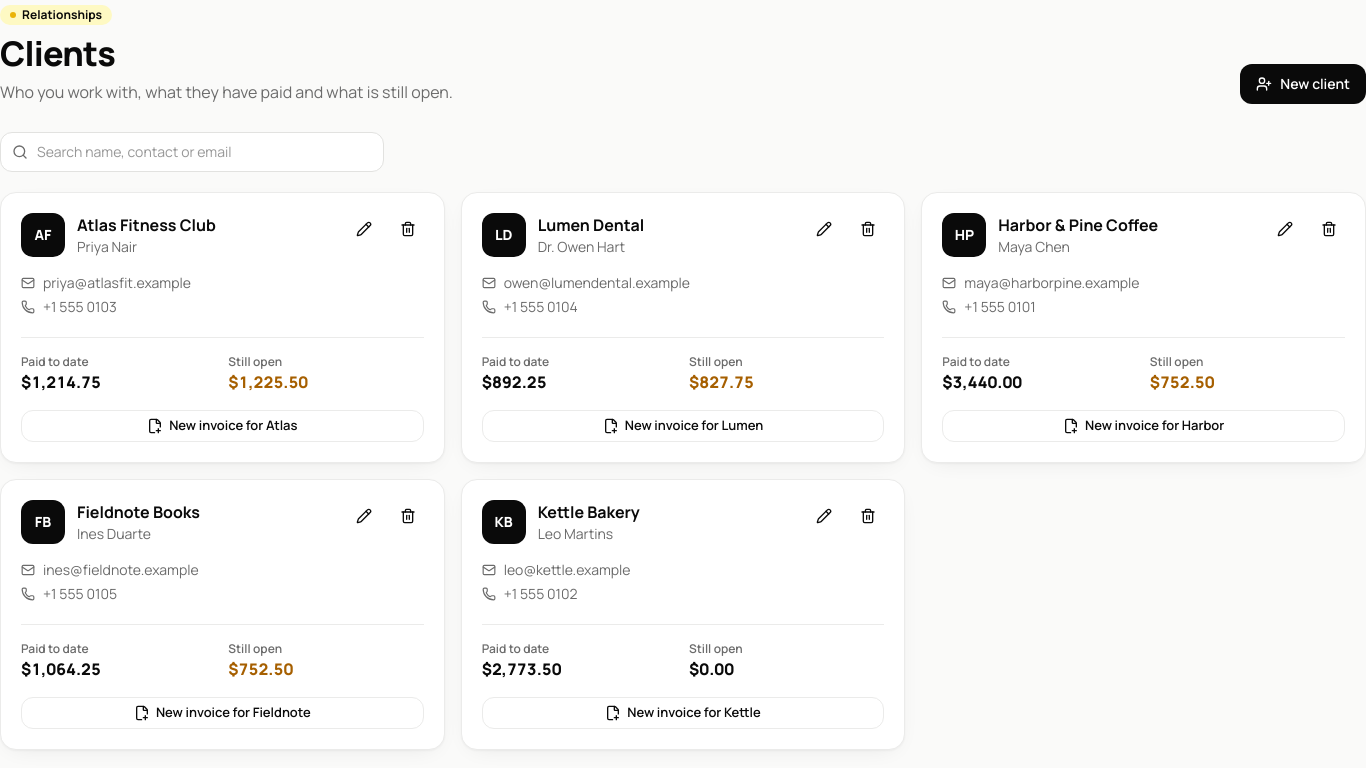
Test: Clients page › validates and adds a client
Step 1. Click the button "New client" → (1303, 84), box [1240, 64, 1365, 104]
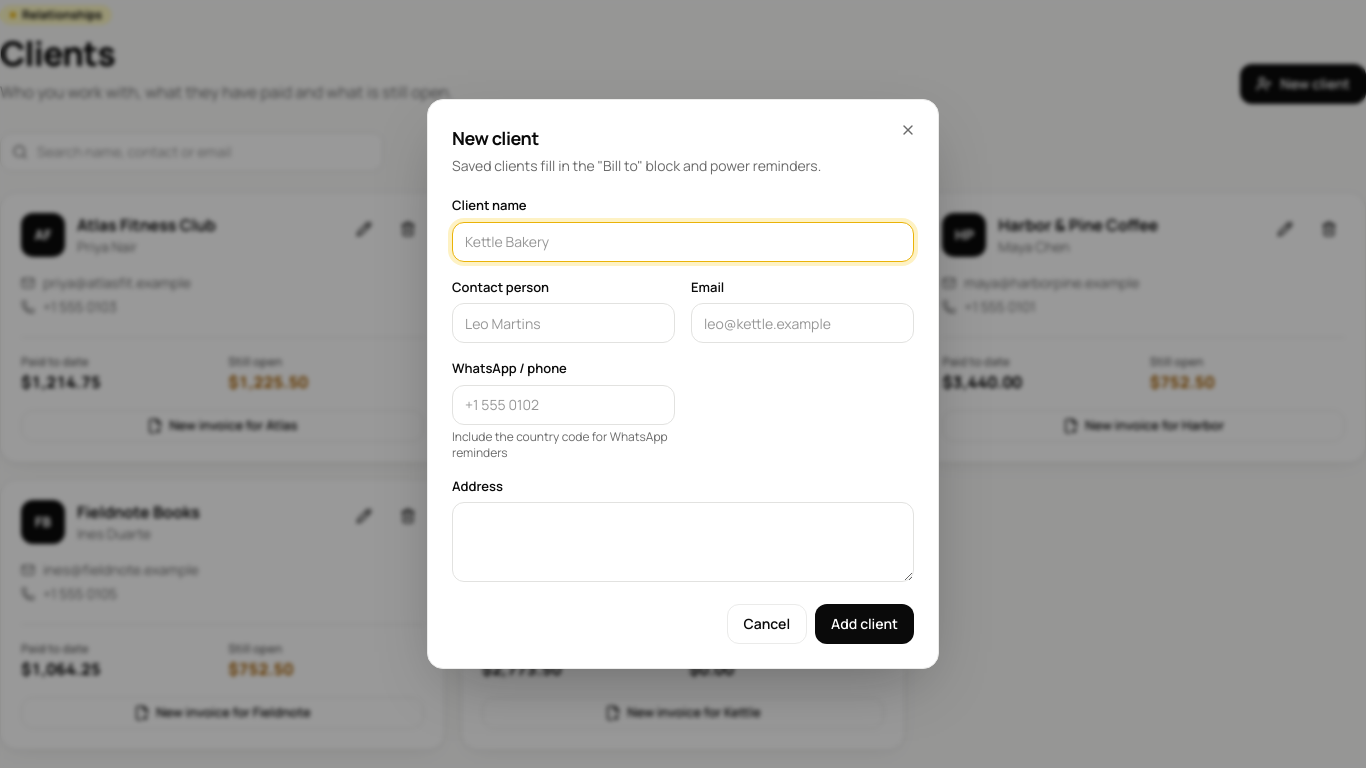
Step 2. Type "bad" into the field labelled "Email" → (802, 323), box [691, 303, 914, 343]
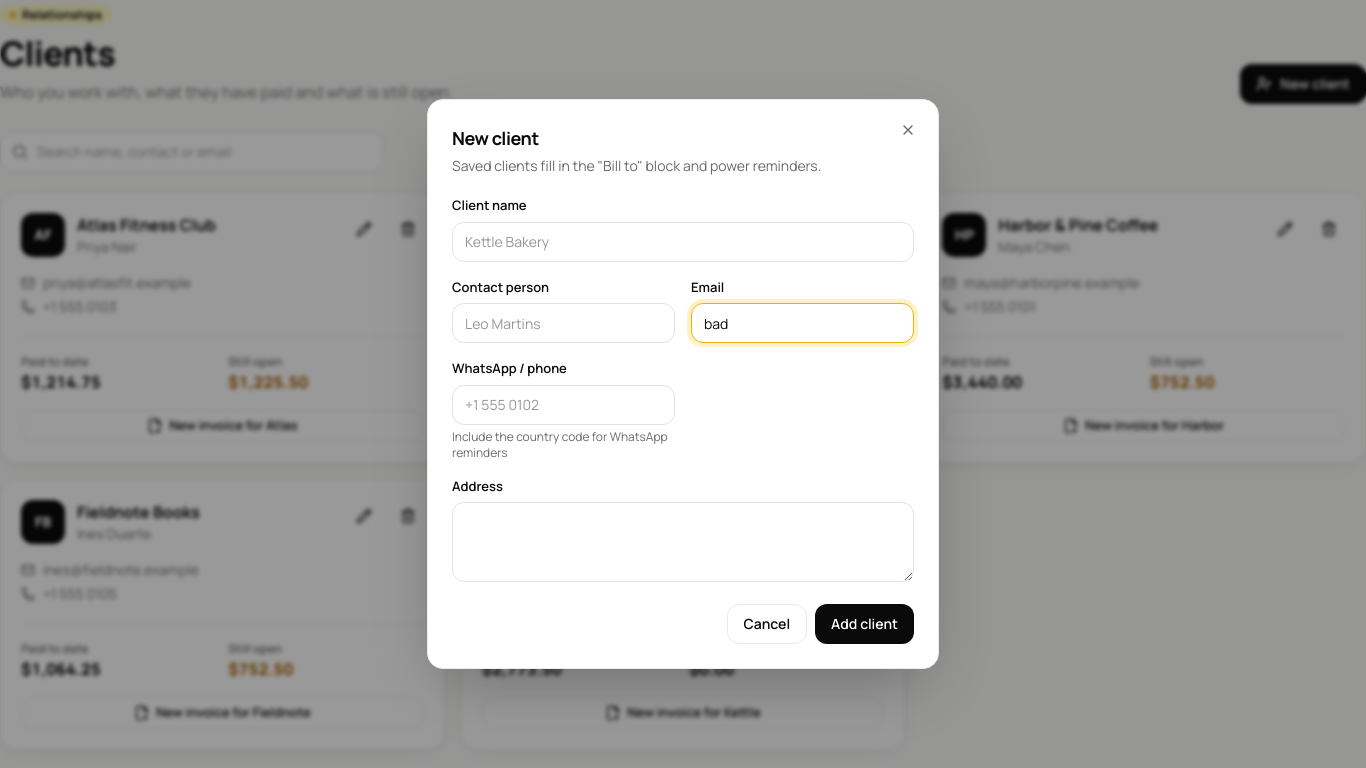
Step 3. Click the button "Add client" → (865, 624), box [815, 604, 914, 644]
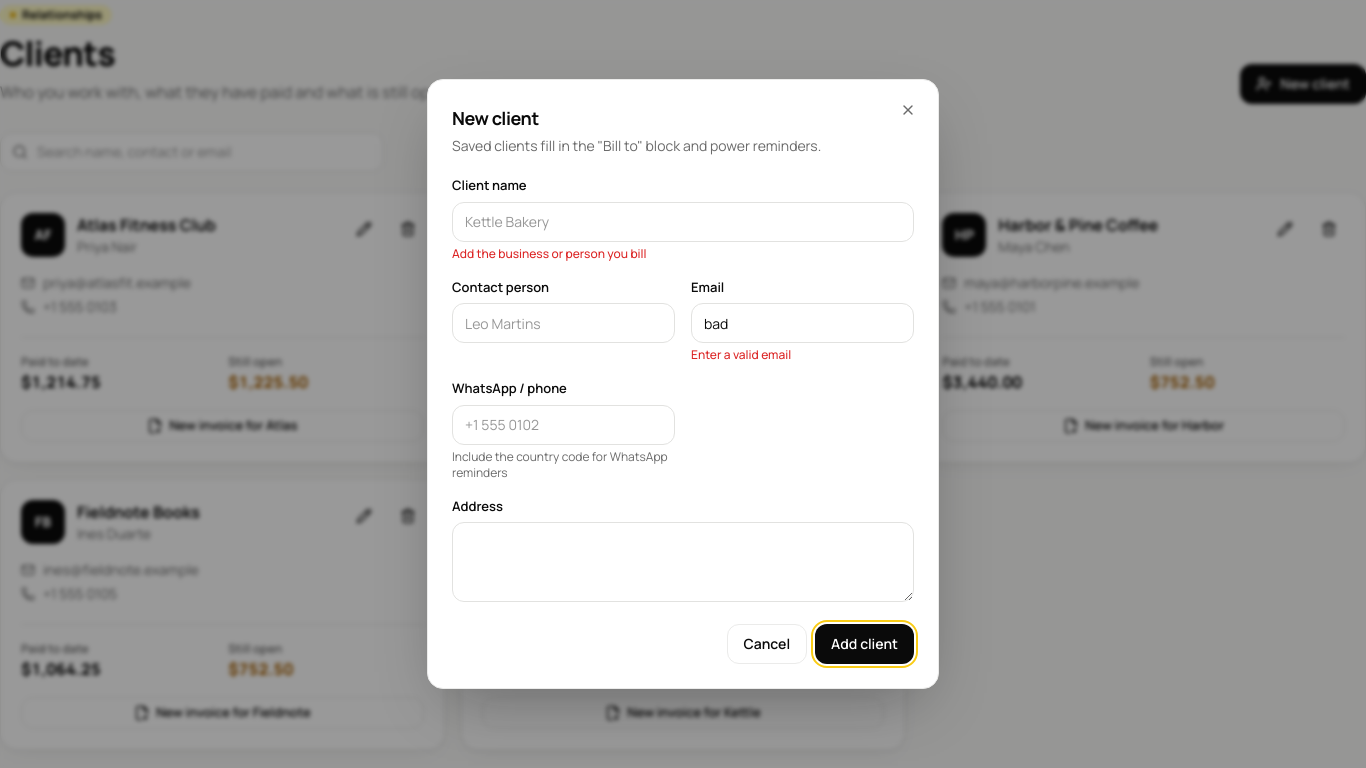
Check: the text "Add the business or person you bill" is shown, box [452, 244, 646, 262]
Check: the text "Enter a valid email" is shown, box [691, 346, 791, 363]
Step 4. Type "Northwind Florist" into the field labelled "Client name" → (683, 222), box [452, 202, 914, 242]
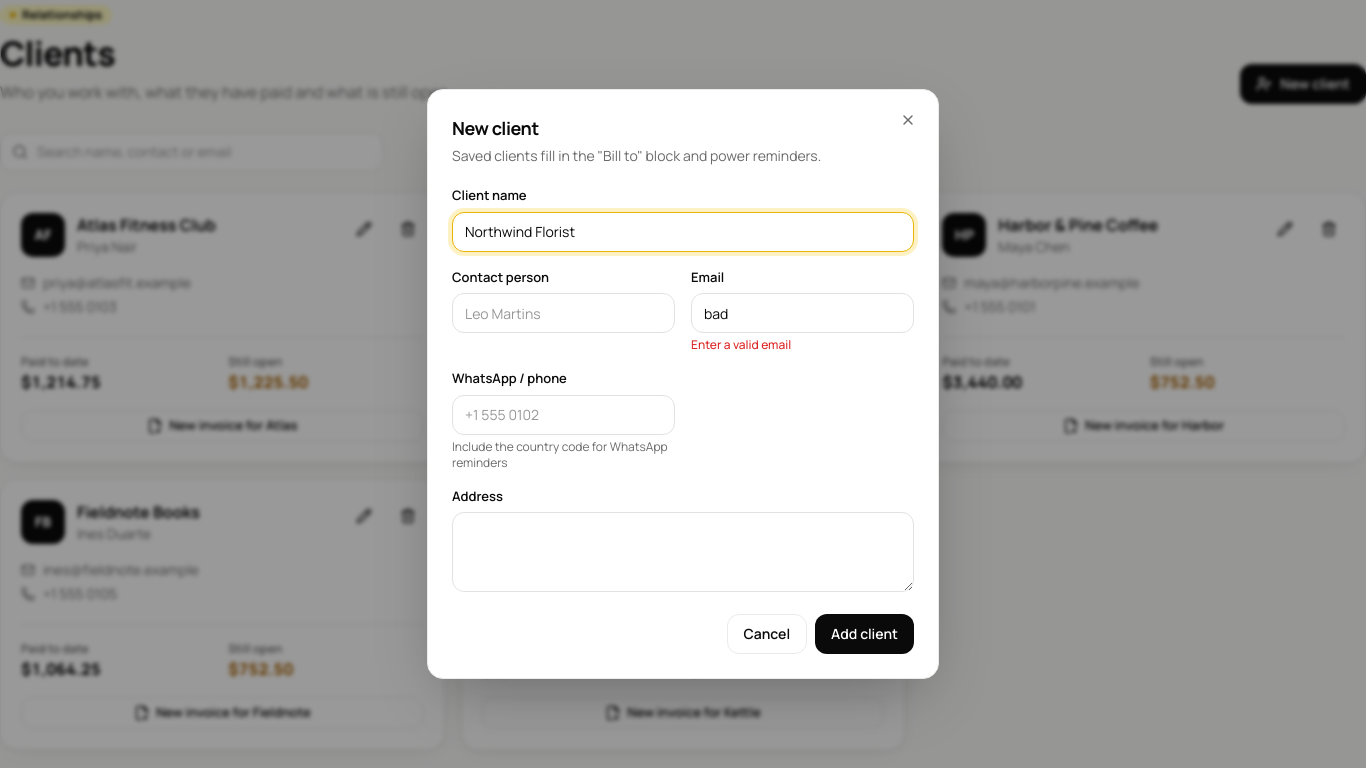
Step 5. Clear the field labelled "Email" → (802, 313), box [691, 293, 914, 333]
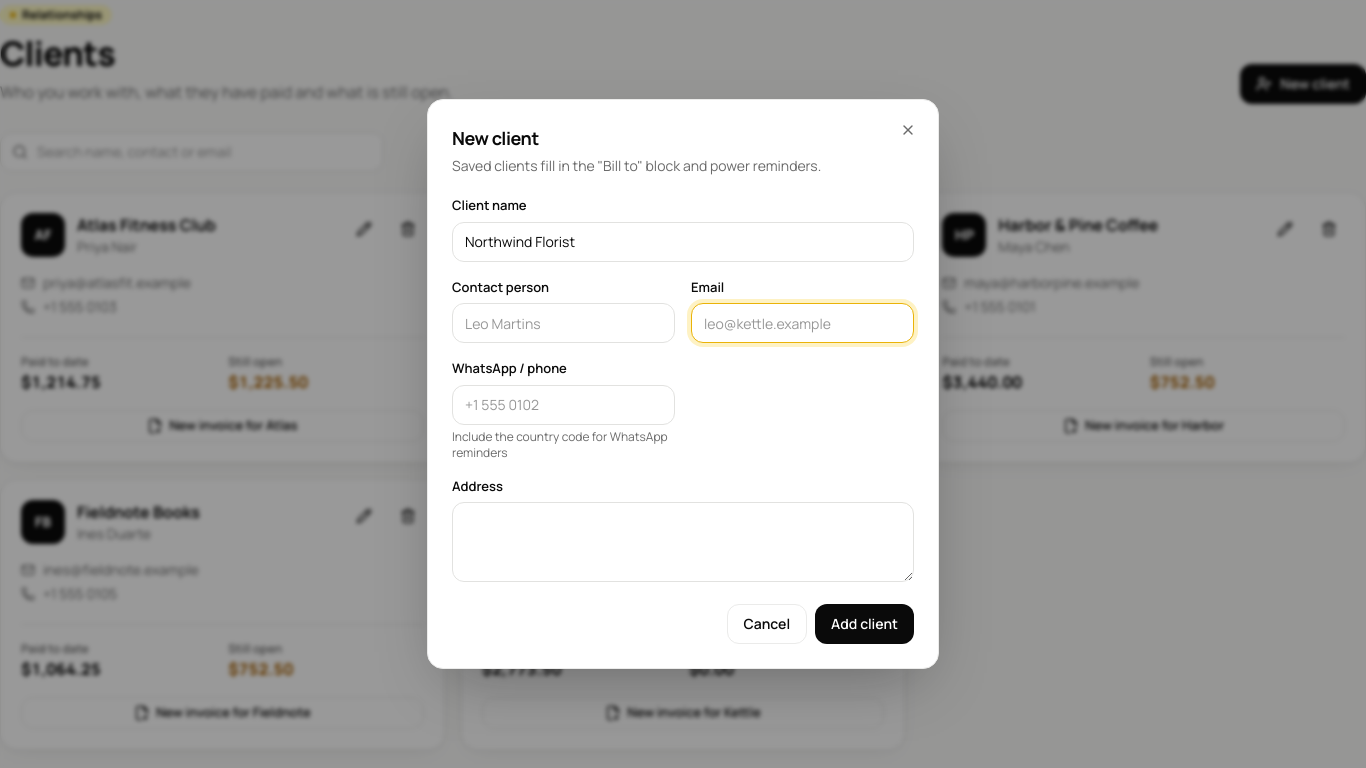
Step 6. Click the button "Add client" → (865, 624), box [815, 604, 914, 644]
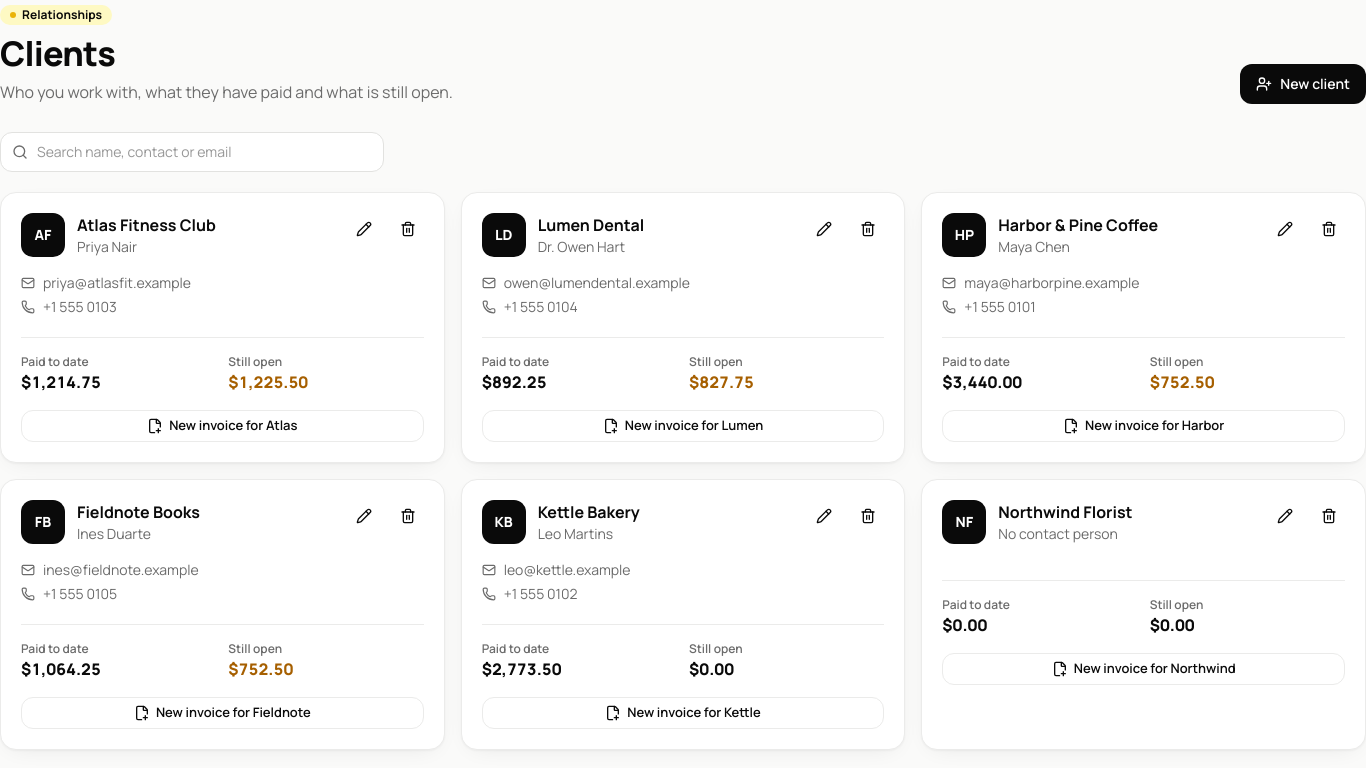
Check: the heading "Northwind Florist" is shown, box [998, 501, 1132, 523]
